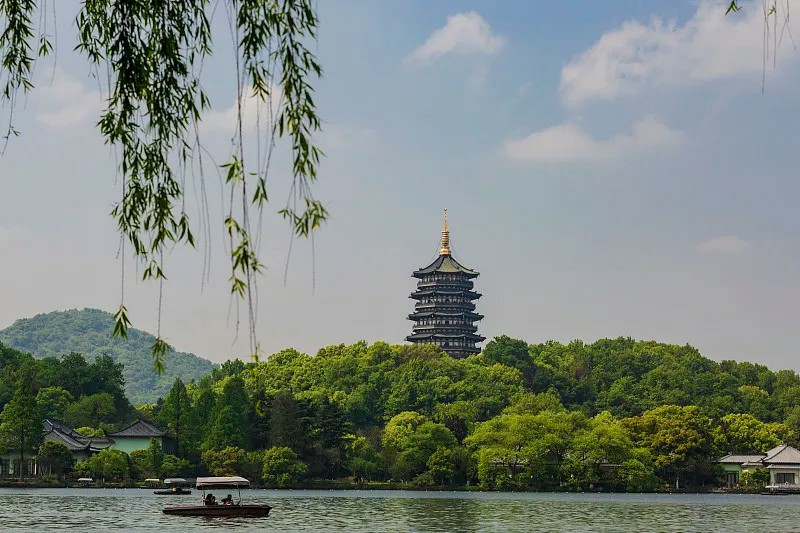Leifeng: (405, 207, 487, 359)
